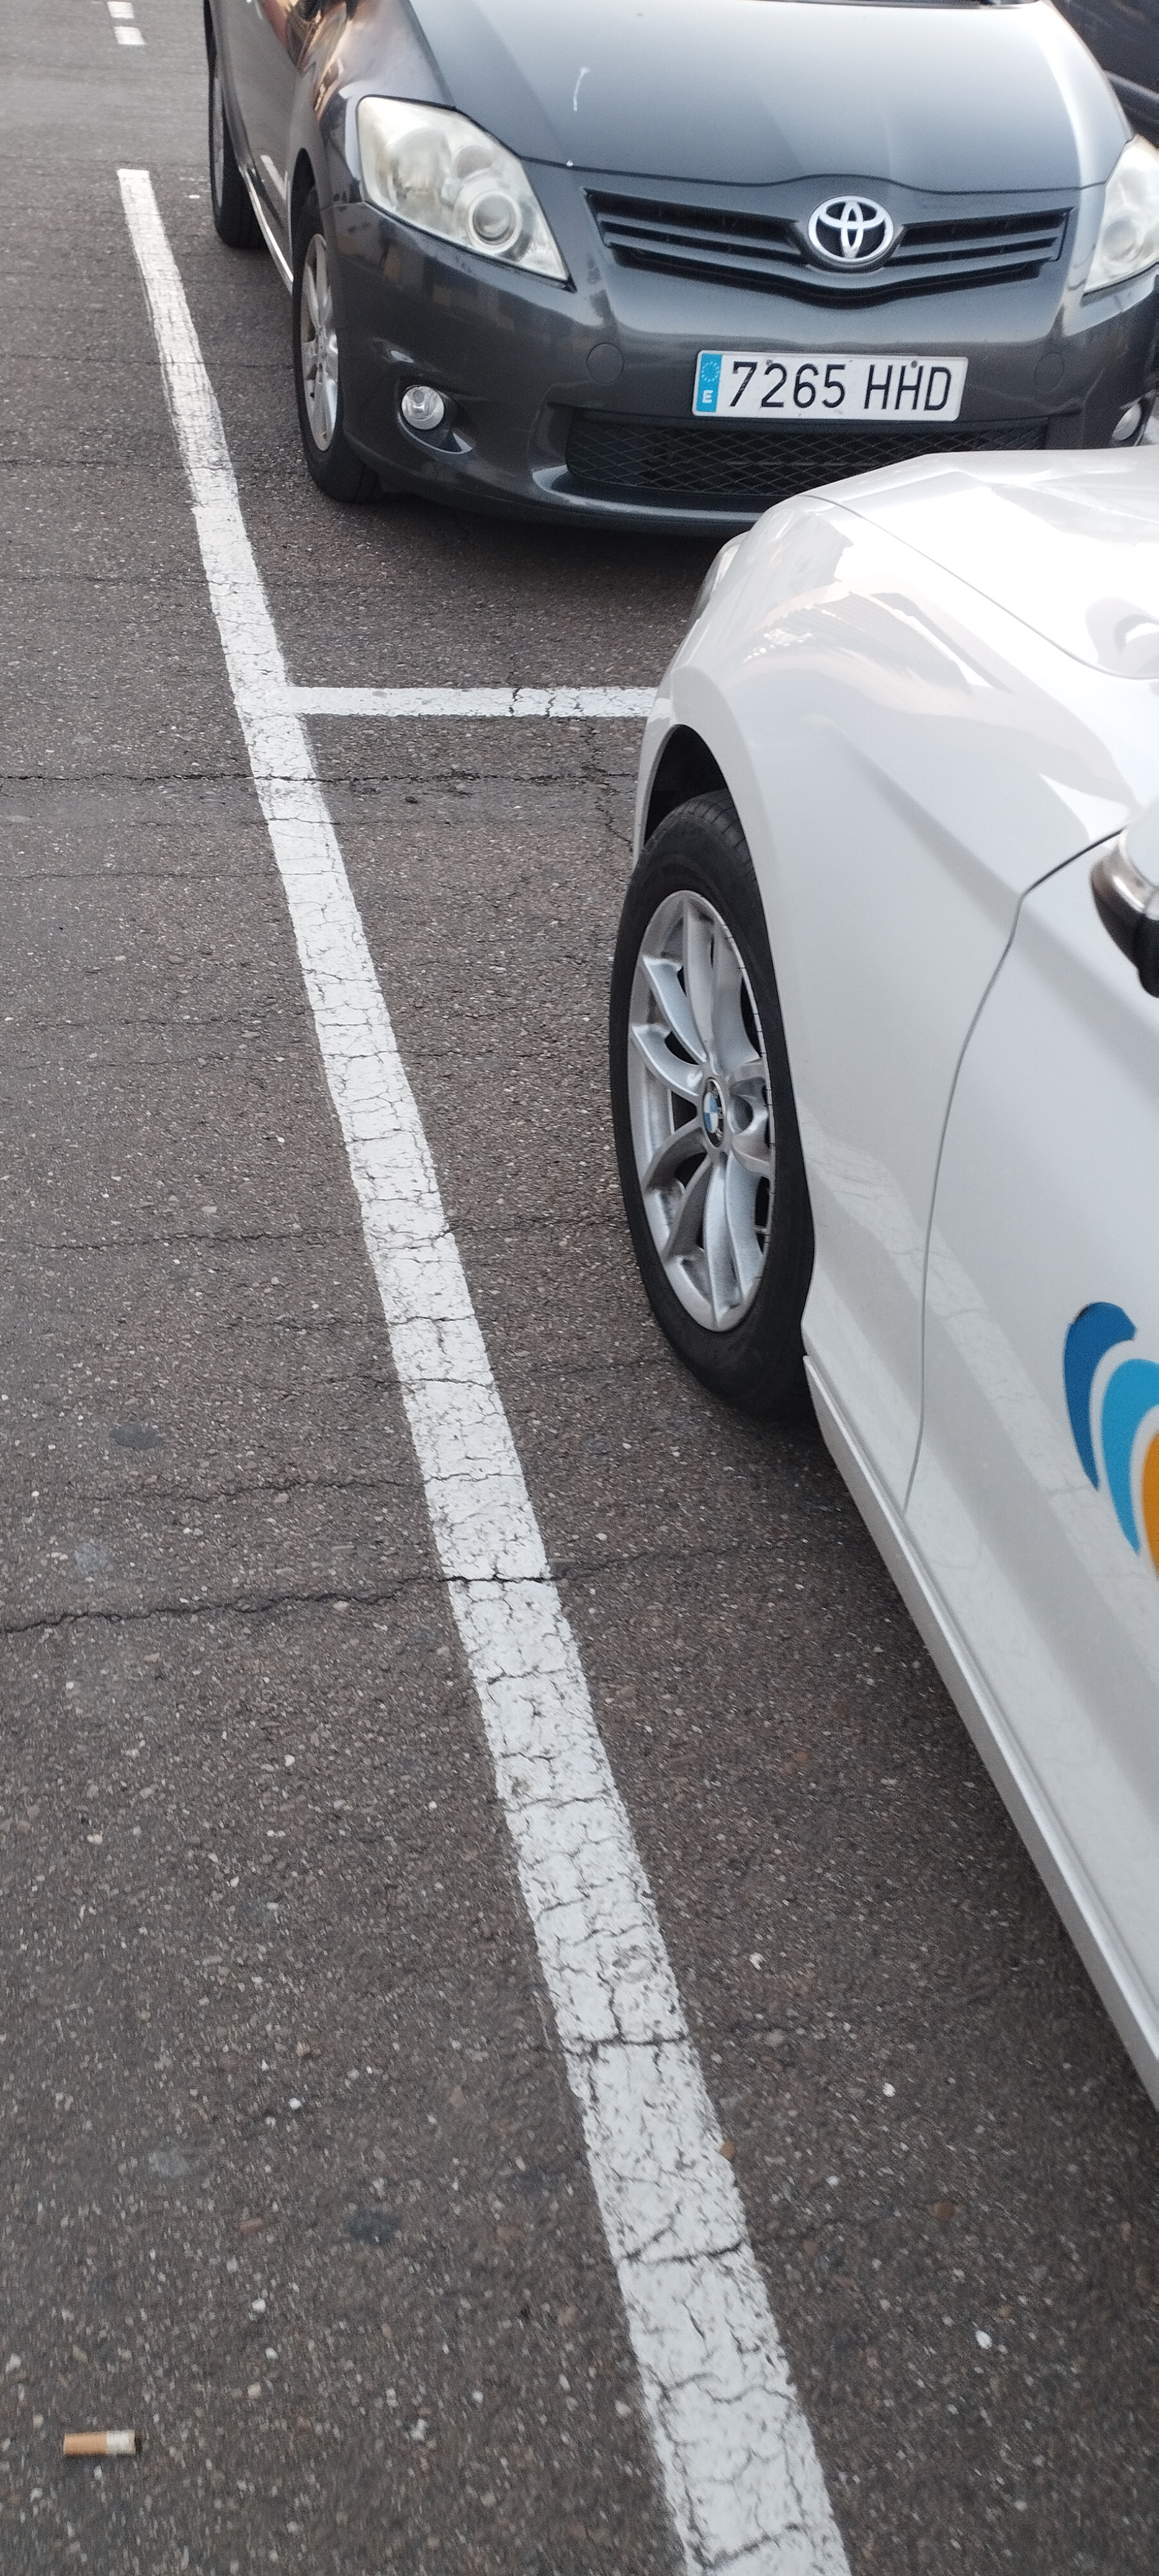Plate: (691, 350, 962, 414)
